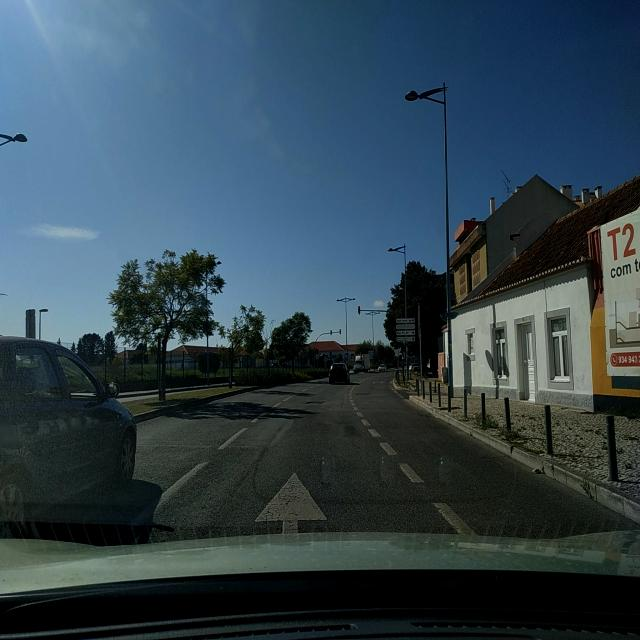car: (0, 334, 138, 535), (328, 362, 350, 385), (378, 363, 387, 372), (367, 365, 377, 373)
